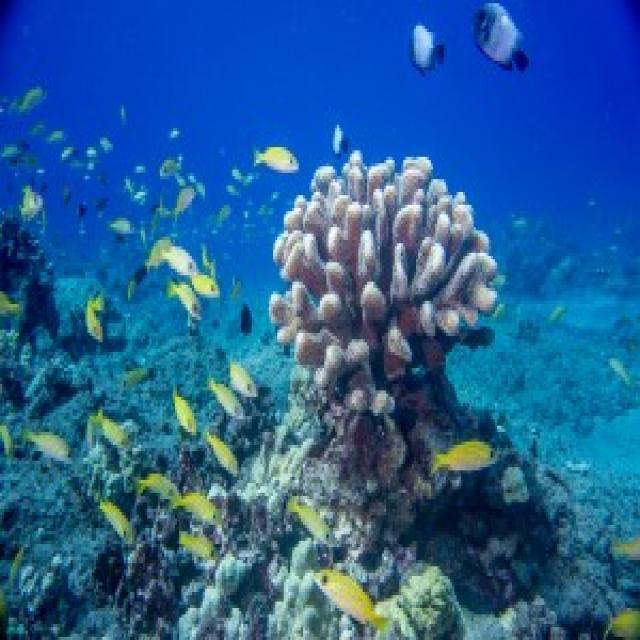Bleached: (272, 154, 503, 417), (270, 547, 461, 640), (225, 419, 335, 537), (1, 325, 99, 416), (8, 553, 94, 640), (181, 550, 256, 640), (88, 428, 143, 501)
Healthy: (460, 419, 561, 615), (117, 448, 210, 636), (1, 202, 59, 325)
